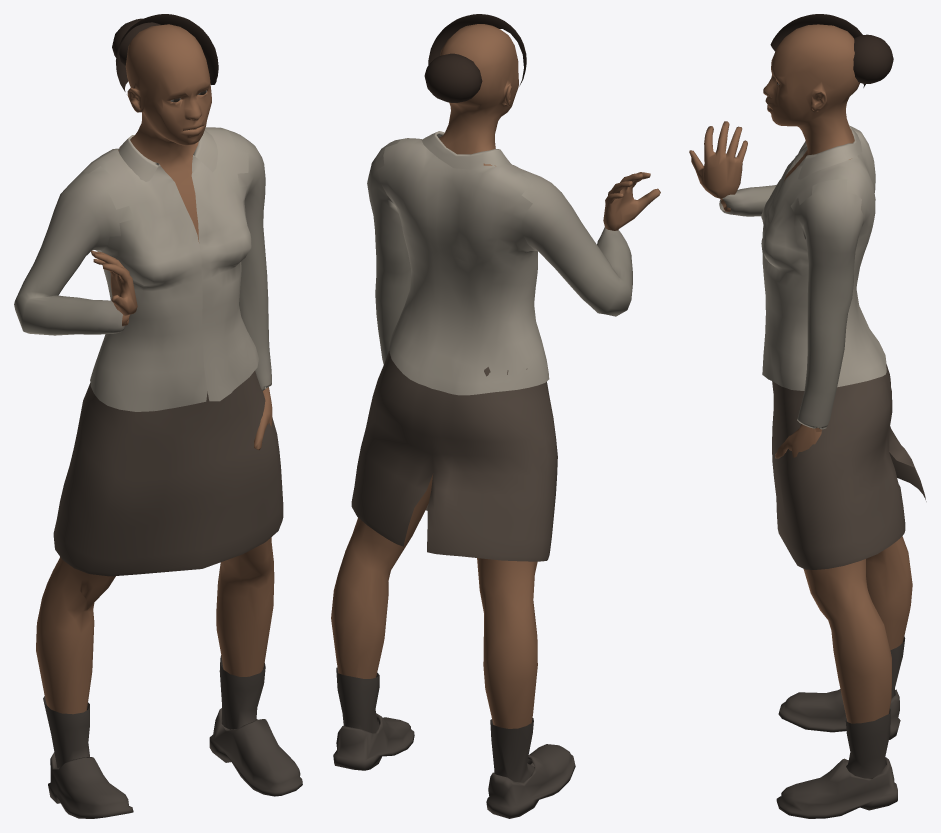
File: participant-09-middle.glb
3 renders of one model, left to right at view 1: azimuth 30°, elevation 25°; view 2: azimuth 150°, elevation 25°; view 3: azimuth 270°, elevation 25°, orthographic. The views are drawn at different scales.
Visible parts, largest first — view 1: Participant anatomy and ordinary clothes; view 2: Participant anatomy and ordinary clothes; view 3: Participant anatomy and ordinary clothes.
Boxes of the visible parts, left/top/right/bottom form: Participant anatomy and ordinary clothes: left=14, top=14, right=302, bottom=818; Participant anatomy and ordinary clothes: left=331, top=14, right=660, bottom=818; Participant anatomy and ordinary clothes: left=689, top=14, right=926, bottom=818.
Size of the model in its own units: 0.6748 by 1.82 by 0.5266.
